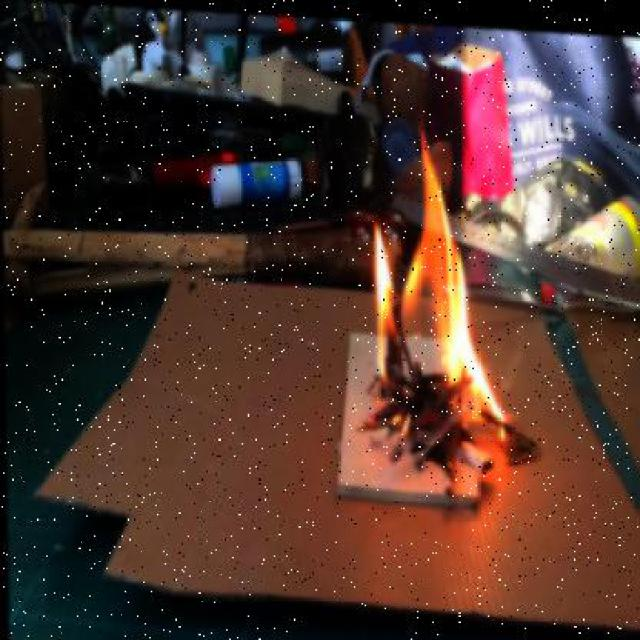fire: (336, 119, 532, 476)
